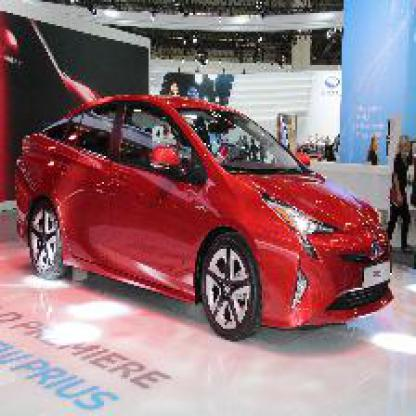not_emergency: (2, 86, 407, 348)
